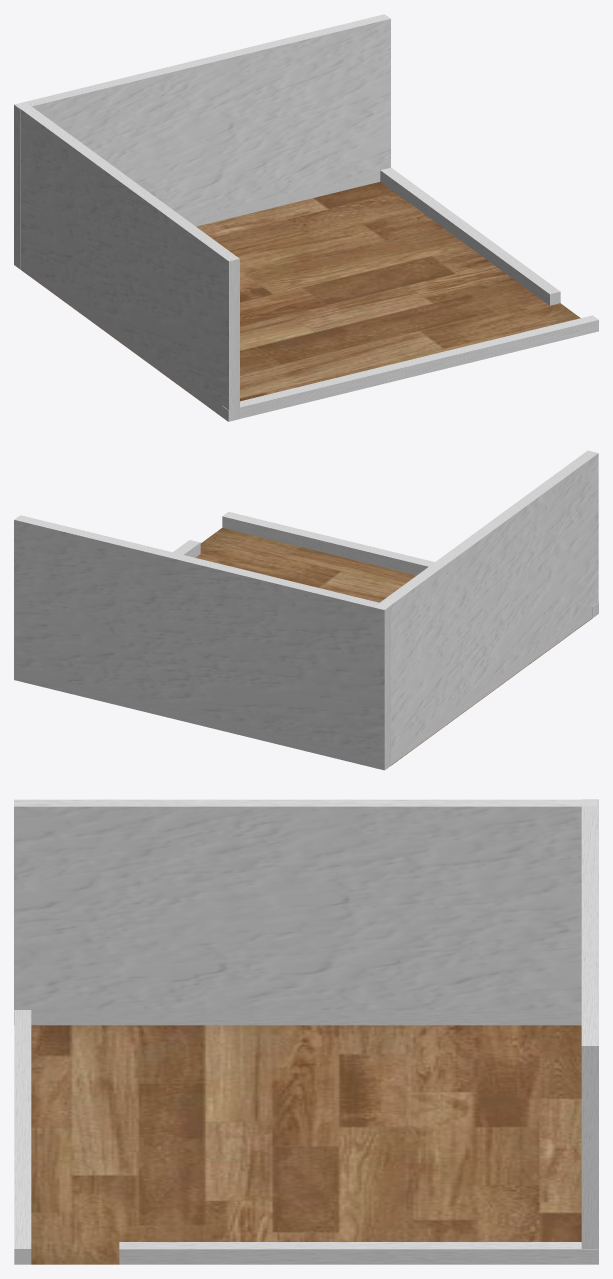
Rendered from Room.fbx.
3 renders of one model, top to bottom at view 1: azimuth 30°, elevation 25°; view 2: azimuth 150°, elevation 25°; view 3: azimuth 270°, elevation 25°, orthographic. The views are drawn at different scales.
Visible parts, largest first — view 1: Wall_1, Base, Wall_2, Small_Wall_3, Small_Wall_4, Small_Wall_2, Small_Wall_1; view 2: Wall_1, Wall_2, Base, Small_Wall_1, Small_Wall_3, Small_Wall_2; view 3: Wall_2, Base, Small_Wall_4, Small_Wall_2, Wall_1, Small_Wall_3.
Boxes of the visible parts, x1,y1,x2,y2 form: Wall_1: (14,14,390,268); Base: (20,181,580,416); Wall_2: (15,102,239,421); Small_Wall_3: (222,315,598,421); Small_Wall_4: (380,167,560,305); Small_Wall_2: (20,258,239,421); Small_Wall_1: (20,170,380,269); Wall_1: (14,515,390,769); Wall_2: (374,450,598,761); Base: (195,528,592,765); Small_Wall_1: (14,669,384,770); Small_Wall_3: (222,512,598,617); Small_Wall_2: (391,607,592,764); Wall_2: (14,799,597,1025); Base: (31,1025,581,1264); Small_Wall_4: (119,1242,598,1264); Small_Wall_2: (14,1010,581,1025); Wall_1: (581,799,598,1264); Small_Wall_3: (14,1010,31,1264).
Bounding box in the file's own units: 3002 × 1240 × 3006.
Materials: 2 (2 with a texture image).
